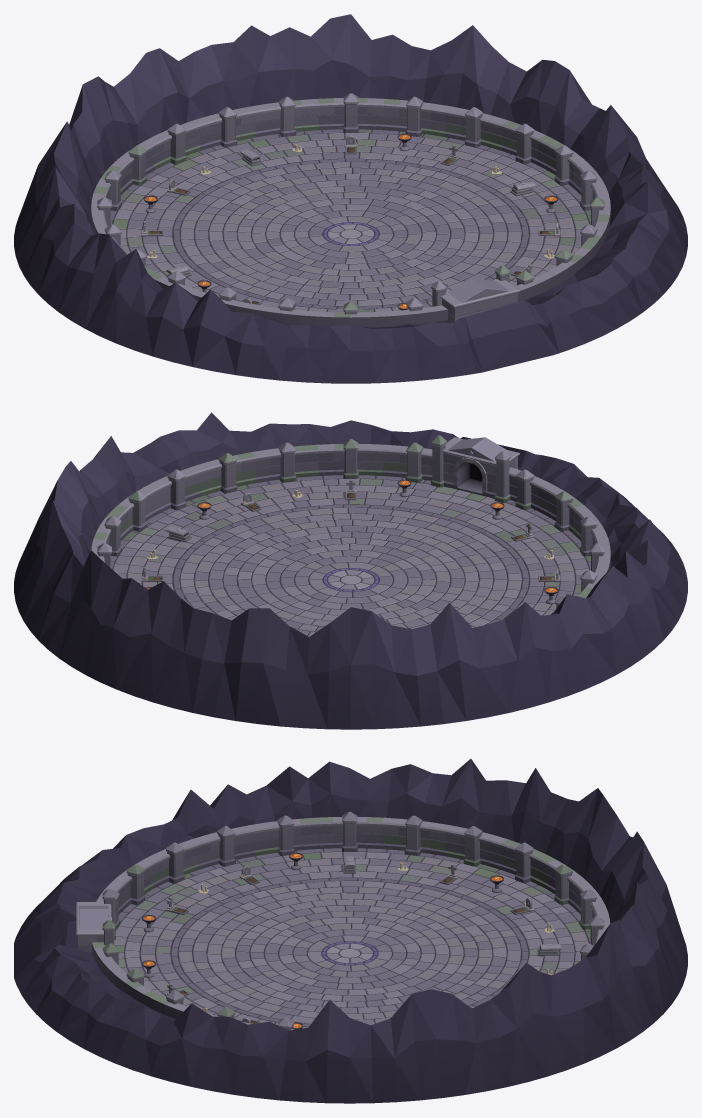
File: Crypt_Arena.glb
The picture shows the model from 3 angles, top to bottom: view 1: azimuth 30°, elevation 25°; view 2: azimuth 150°, elevation 25°; view 3: azimuth 270°, elevation 25°; orthographic projection.
Parts seen in each view (by area): view 1: Backdrop, Floor, Walls, Props; view 2: Backdrop, Floor, Walls, Props; view 3: Backdrop, Floor, Walls, Props.
Part boxes in pixels (box(x1,y1,x2,y2)): Backdrop: box(14, 14, 687, 383); Floor: box(111, 129, 590, 312); Walls: box(91, 93, 610, 327); Props: box(141, 133, 560, 310); Backdrop: box(14, 412, 687, 729); Floor: box(111, 475, 590, 636); Walls: box(91, 435, 610, 608); Props: box(141, 479, 560, 604); Backdrop: box(14, 759, 687, 1103); Floor: box(114, 848, 590, 1028); Walls: box(76, 812, 610, 1030); Props: box(141, 852, 561, 1029).
Bounding box in the file's own units: 122 × 20.63 × 122.
